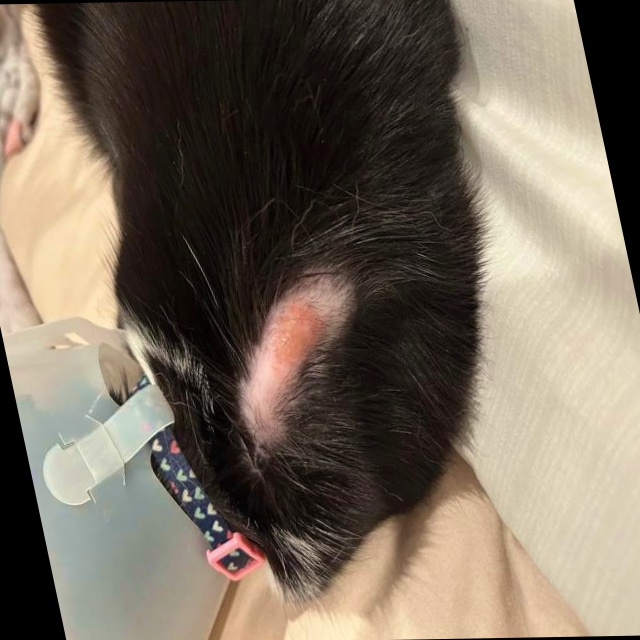hairloss: (207, 286, 377, 445)
